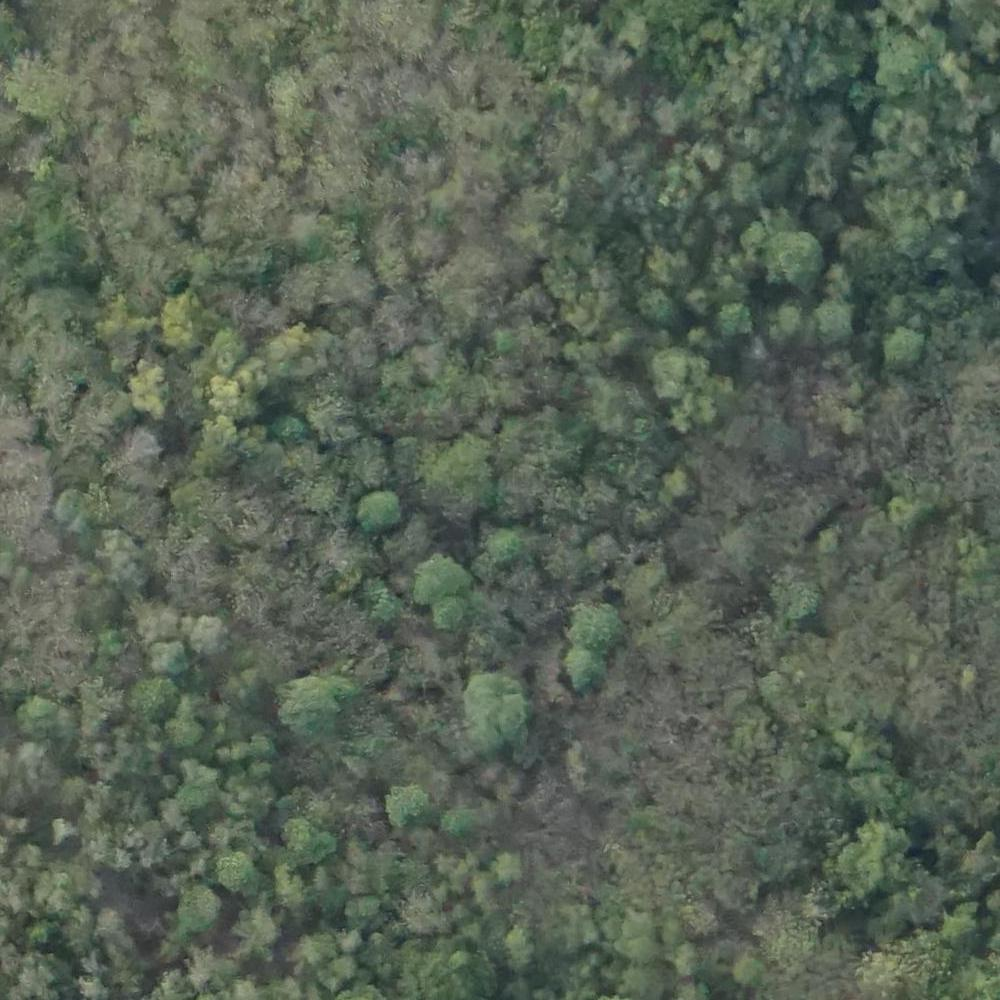tree: (412, 438, 487, 519), (277, 669, 346, 748), (462, 672, 537, 741), (157, 297, 215, 357), (407, 549, 473, 599), (879, 35, 931, 98), (125, 363, 180, 419), (176, 885, 233, 939), (212, 372, 274, 417), (212, 849, 265, 901), (814, 295, 864, 346), (772, 230, 818, 284), (190, 610, 235, 665), (389, 778, 433, 834), (719, 943, 767, 993), (855, 773, 905, 821), (360, 484, 407, 533), (20, 695, 68, 742), (311, 388, 362, 432), (277, 818, 328, 862), (559, 646, 601, 699), (572, 600, 616, 648), (637, 289, 682, 335), (838, 715, 878, 764), (889, 323, 930, 370), (889, 499, 944, 533), (651, 348, 692, 390), (482, 527, 525, 566), (135, 681, 178, 720), (207, 331, 247, 372), (290, 929, 330, 970), (289, 202, 334, 237), (57, 490, 98, 528), (442, 805, 480, 843), (146, 643, 188, 677), (172, 769, 209, 807), (429, 600, 466, 634), (670, 943, 705, 977), (723, 298, 757, 331), (669, 468, 699, 505), (820, 527, 855, 558), (776, 582, 814, 610), (489, 850, 519, 885)
